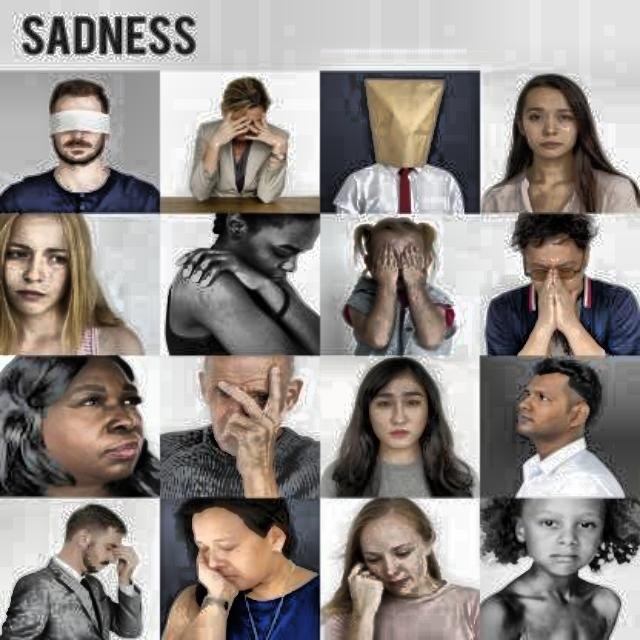neutral: (338, 363, 456, 481), (500, 495, 638, 595), (495, 360, 611, 447)
sad: (0, 351, 160, 495), (167, 360, 311, 492), (0, 209, 120, 355), (341, 497, 470, 607), (171, 502, 309, 602), (181, 72, 285, 199), (182, 208, 314, 308), (496, 71, 620, 171), (513, 216, 617, 296), (41, 506, 145, 579)
